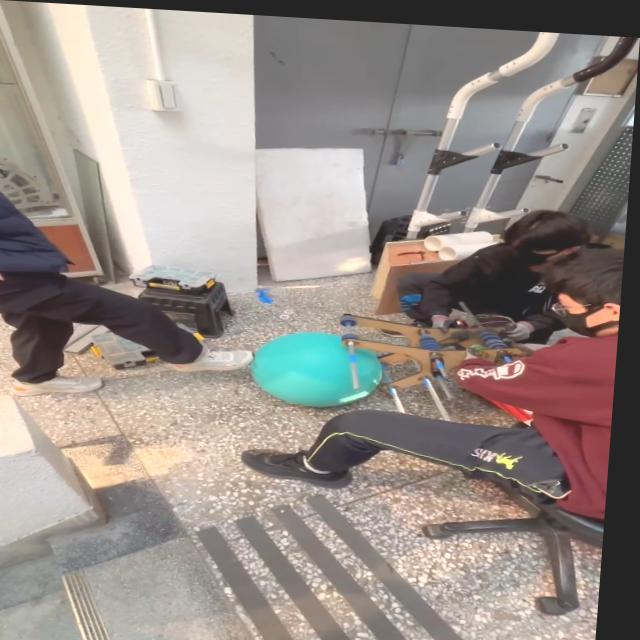ALGAE: (245, 327, 387, 412)
